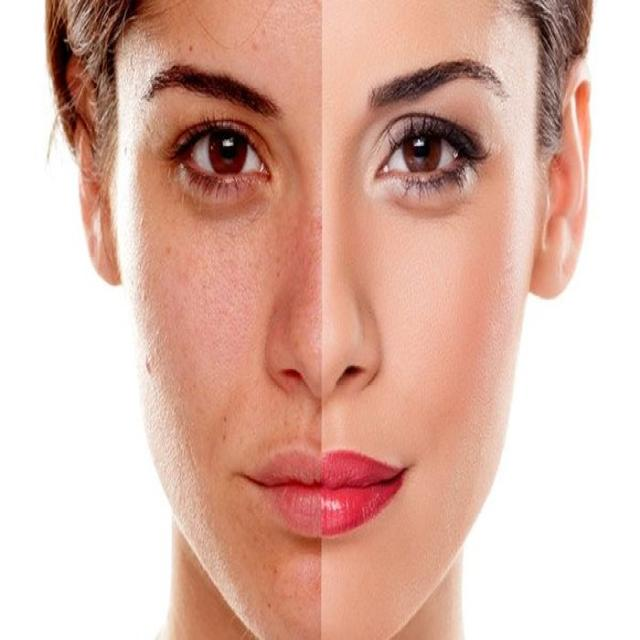Acne: (127, 210, 191, 402)
